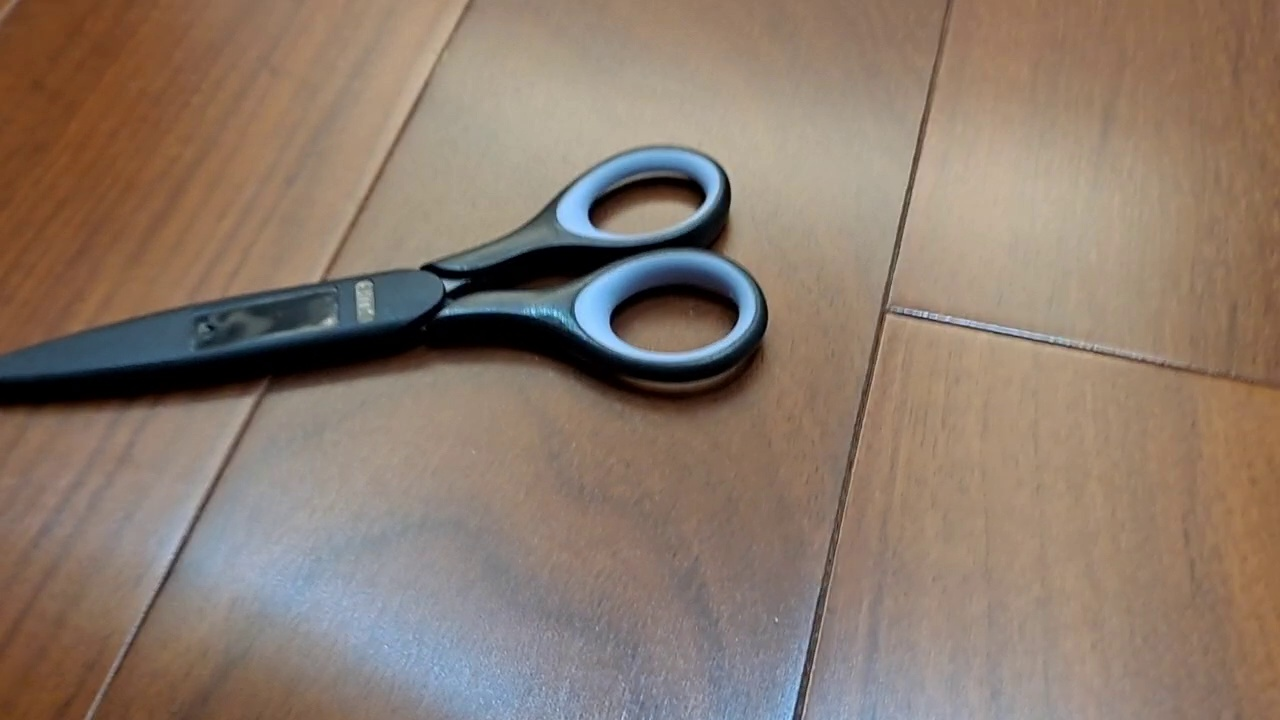scissors: (1, 142, 769, 411)
